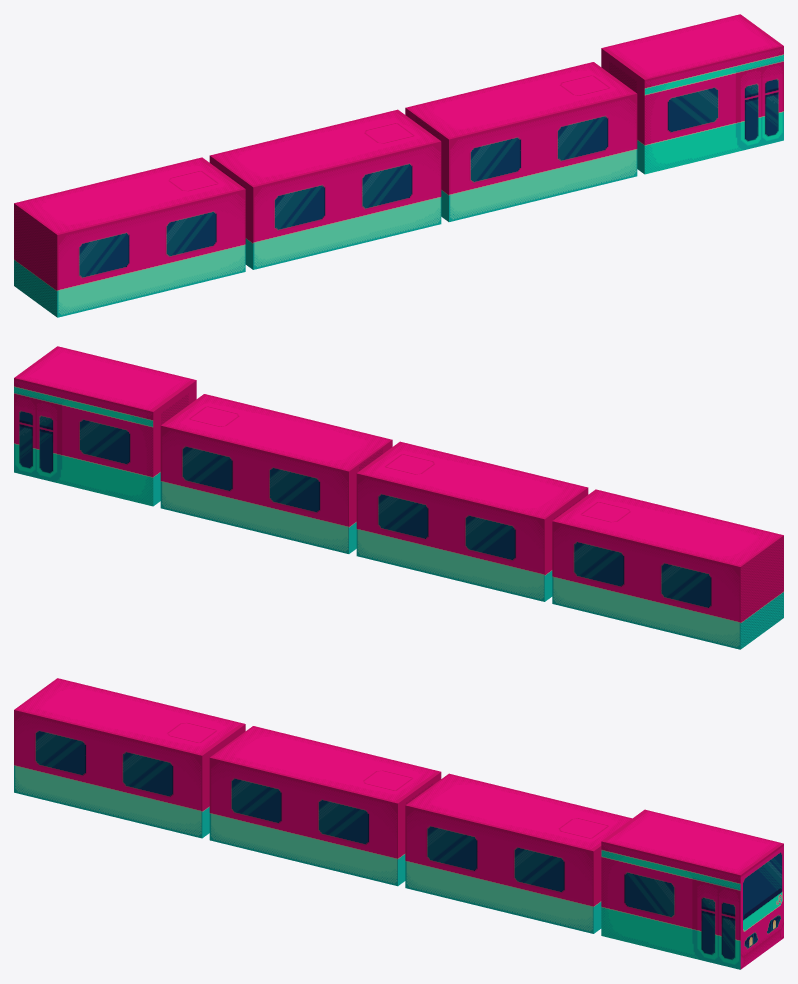
The model's file is MDL_BO_train_01.fbx.
The picture shows the model from 3 angles, top to bottom: view 1: azimuth 30°, elevation 25°; view 2: azimuth 150°, elevation 25°; view 3: azimuth 330°, elevation 25°; orthographic projection.
Visible parts, largest first — view 1: Train; view 2: Train; view 3: Train.
Part boxes in pixels (x1,y1,x2,y2): Train: [14, 14, 783, 317]; Train: [14, 346, 783, 649]; Train: [14, 678, 783, 969].
Bounding box in the file's own units: 3242 × 403 × 336.
